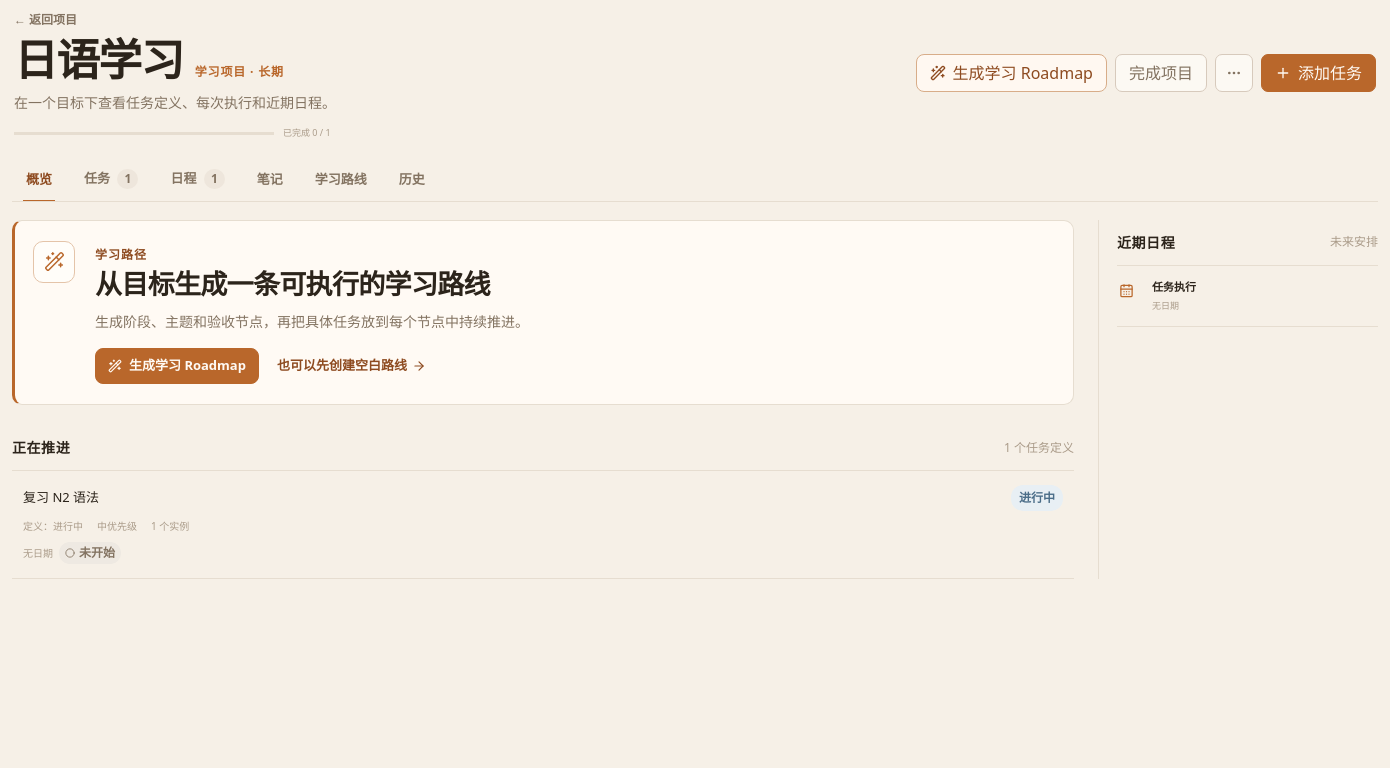
Scenario: Project detail v2 › exposes completion requirements in a normal project task detail
The width and height of the screenshot is (1390, 768).
Click the heading "复习 N2 语法": (61, 498) [23, 488, 99, 508]
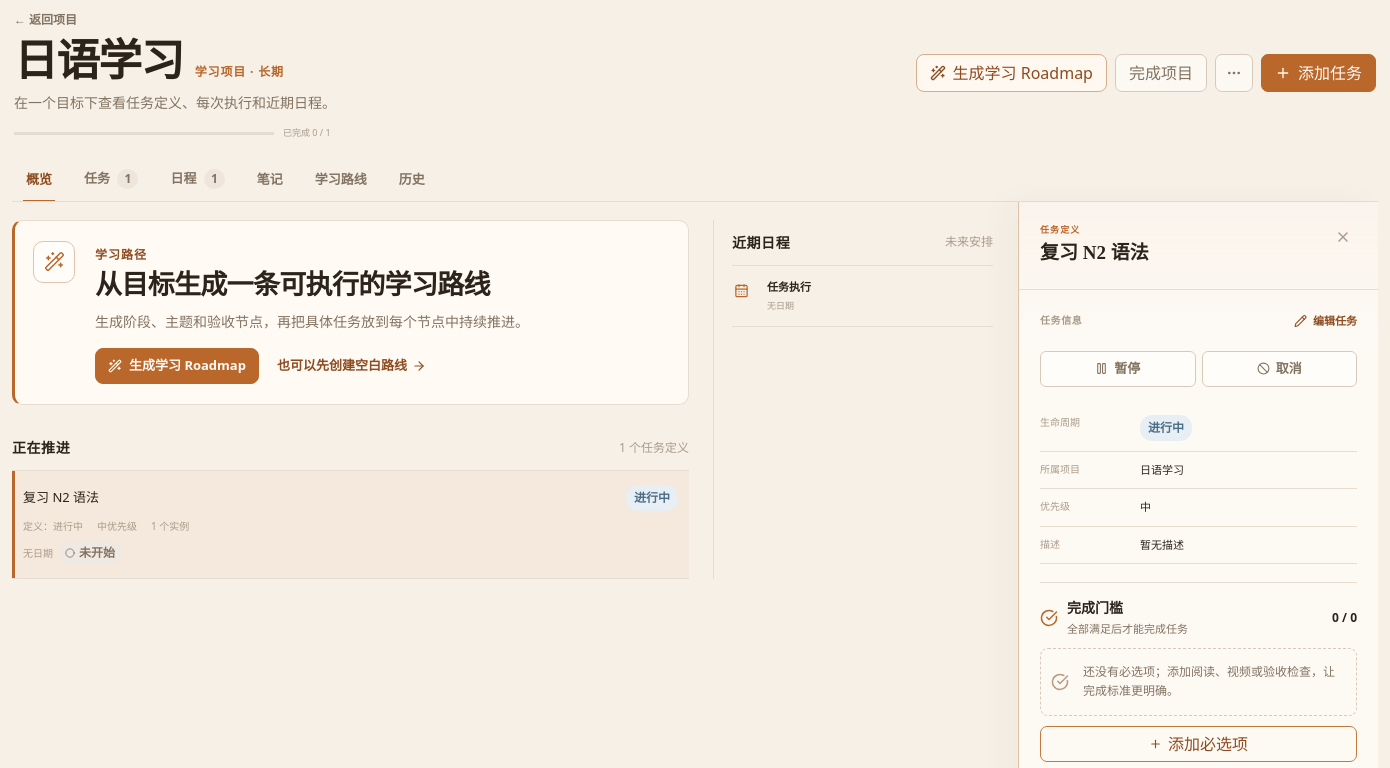
Check: the text "完成门槛" is shown, box [1067, 601, 1123, 616]
Check: the text "0 / 0" is shown, box [1332, 609, 1357, 627]
Check: the button "添加必选项" is enabled, box [1040, 726, 1357, 762]
